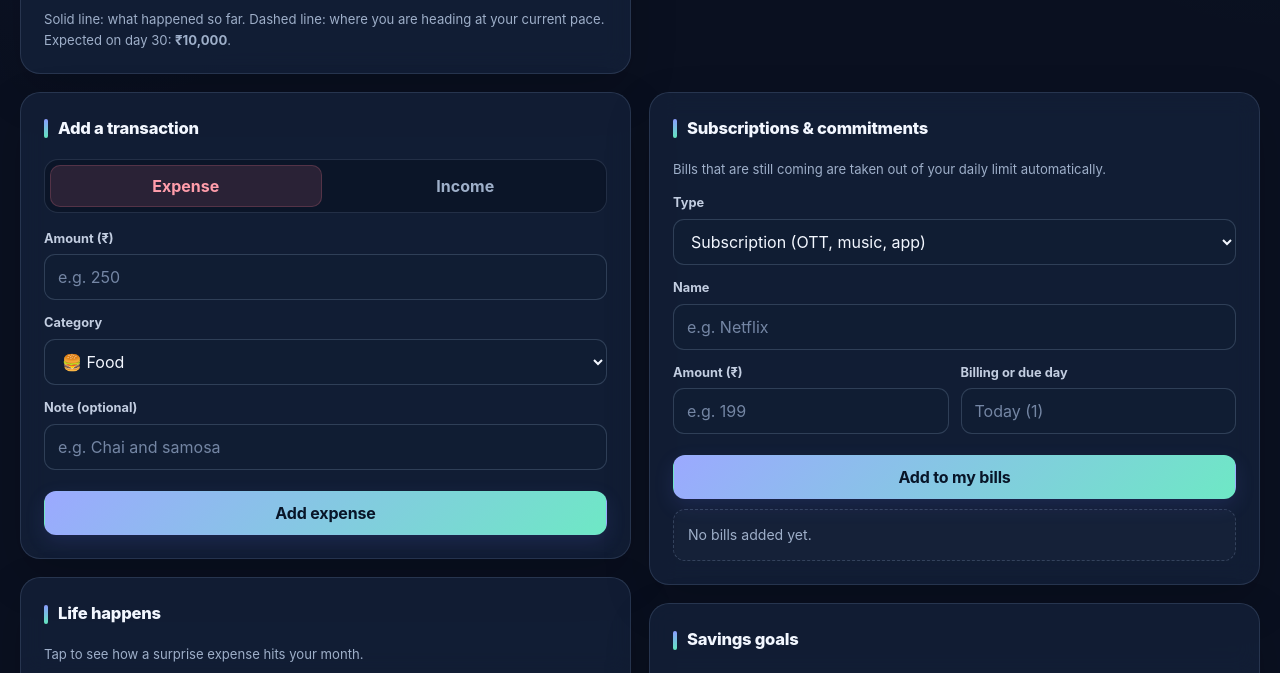
Scenario: App › updates the balance when an expense is added
(page scrolled)
Type "500" into the number field labelled "Amount (₹)" below "Add a transaction" at (326, 278), box [44, 254, 607, 300]
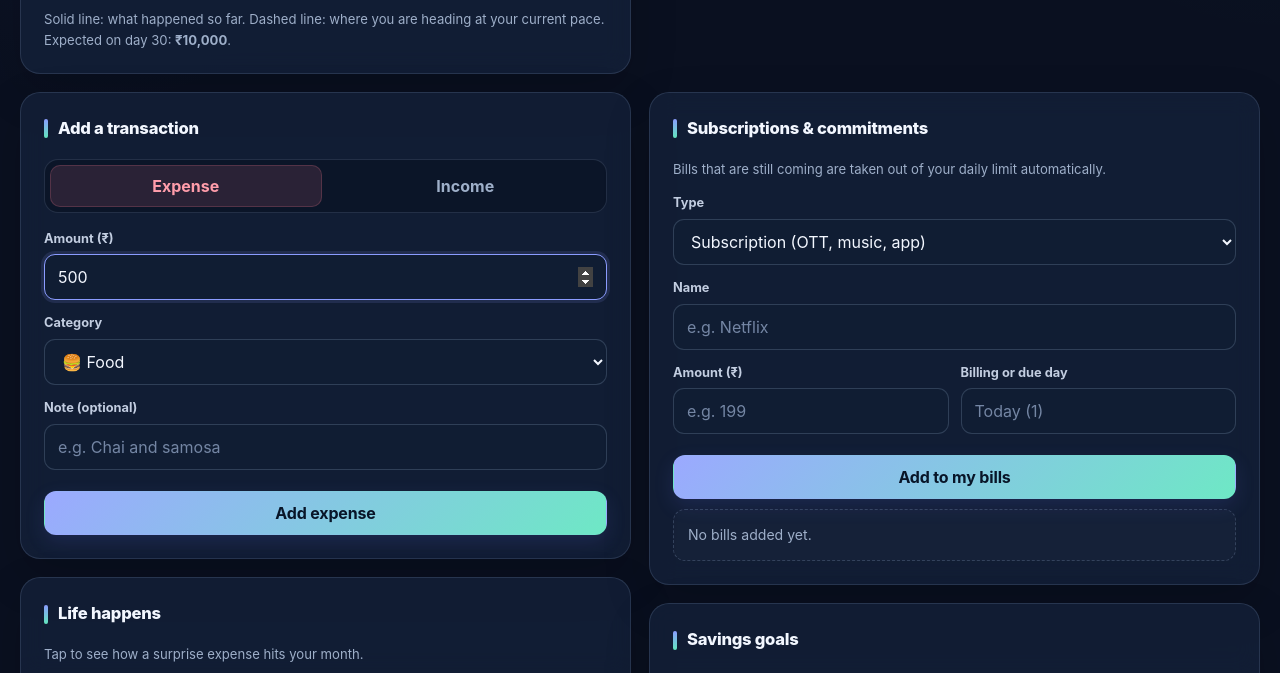
Click the button "Add expense" at (326, 513), box [44, 491, 607, 535]
(page scrolled)
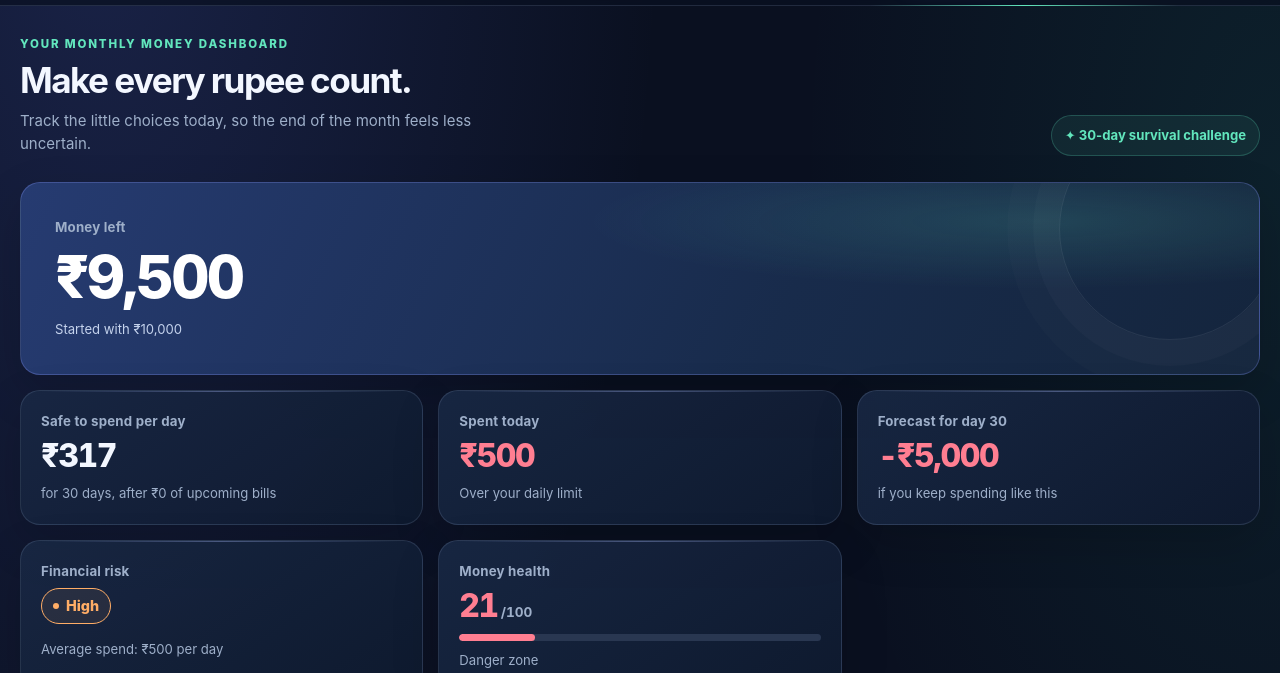
expect the text with test id "balance" reads "₹9,500": met, box [55, 241, 242, 312]
